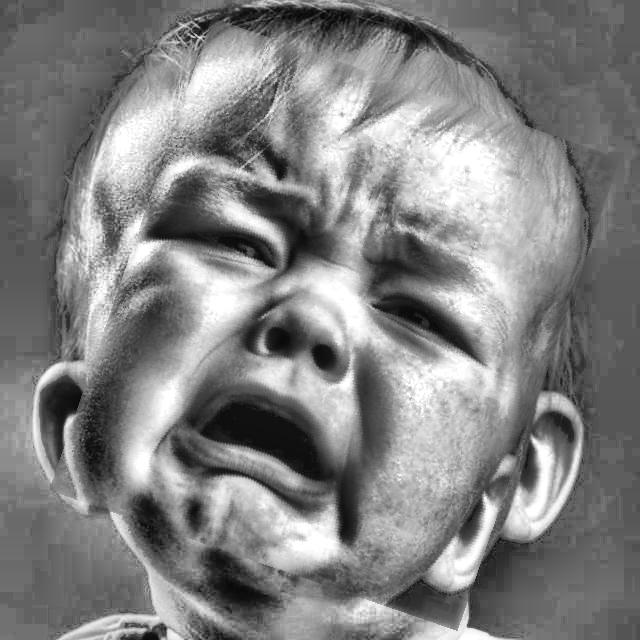sad: (84, 47, 586, 603)
